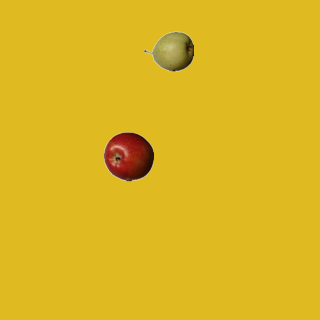Apple Braeburn: (103, 131, 153, 181)
Pear: (143, 26, 193, 76)
